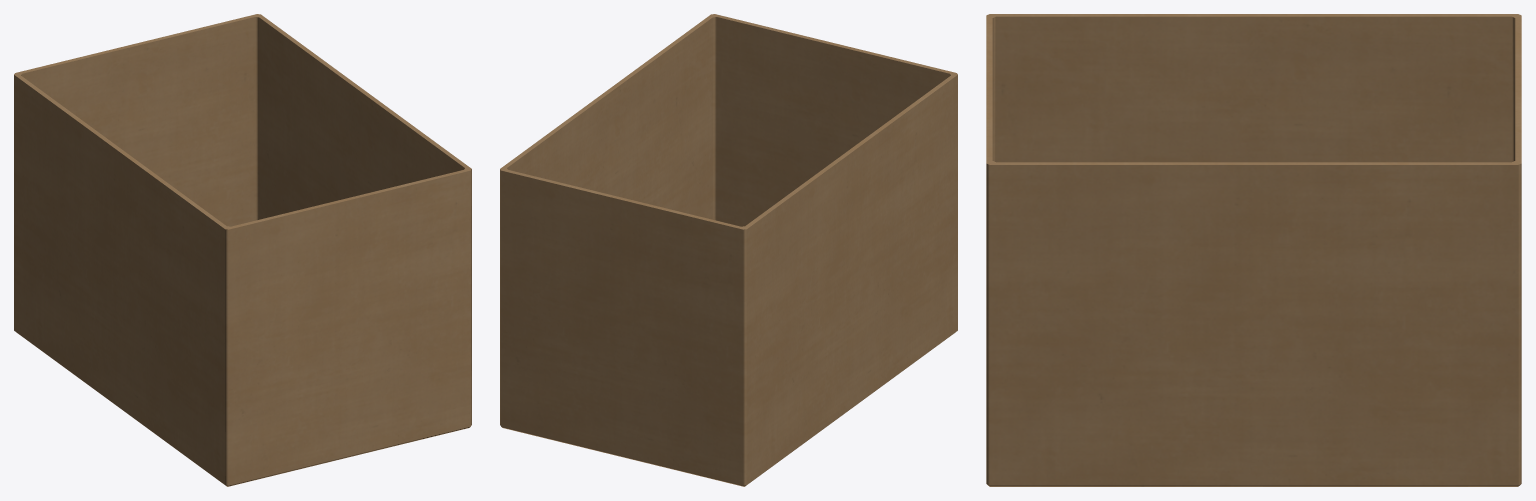
Rendered from SM_CardboardBox_01.fbx.
3 views of the same model, side by side, from view 1: azimuth 30°, elevation 25°; view 2: azimuth 150°, elevation 25°; view 3: azimuth 270°, elevation 25° (orthographic). The views are drawn at different scales.
Visible parts, largest first — view 1: SM_CardboardBox_01_LOD0; view 2: SM_CardboardBox_01_LOD0; view 3: SM_CardboardBox_01_LOD0.
Boxes of the visible parts, <box> form: SM_CardboardBox_01_LOD0: <box>14,14,471,486</box>; SM_CardboardBox_01_LOD0: <box>500,14,957,486</box>; SM_CardboardBox_01_LOD0: <box>986,14,1521,486</box>.
Bounding box in the file's own units: 20 × 30 × 20.
